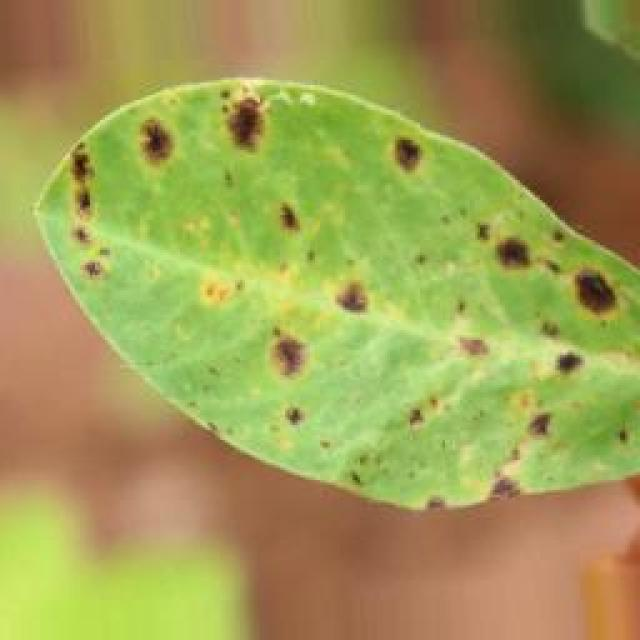Yellowish: (19, 51, 640, 514)
